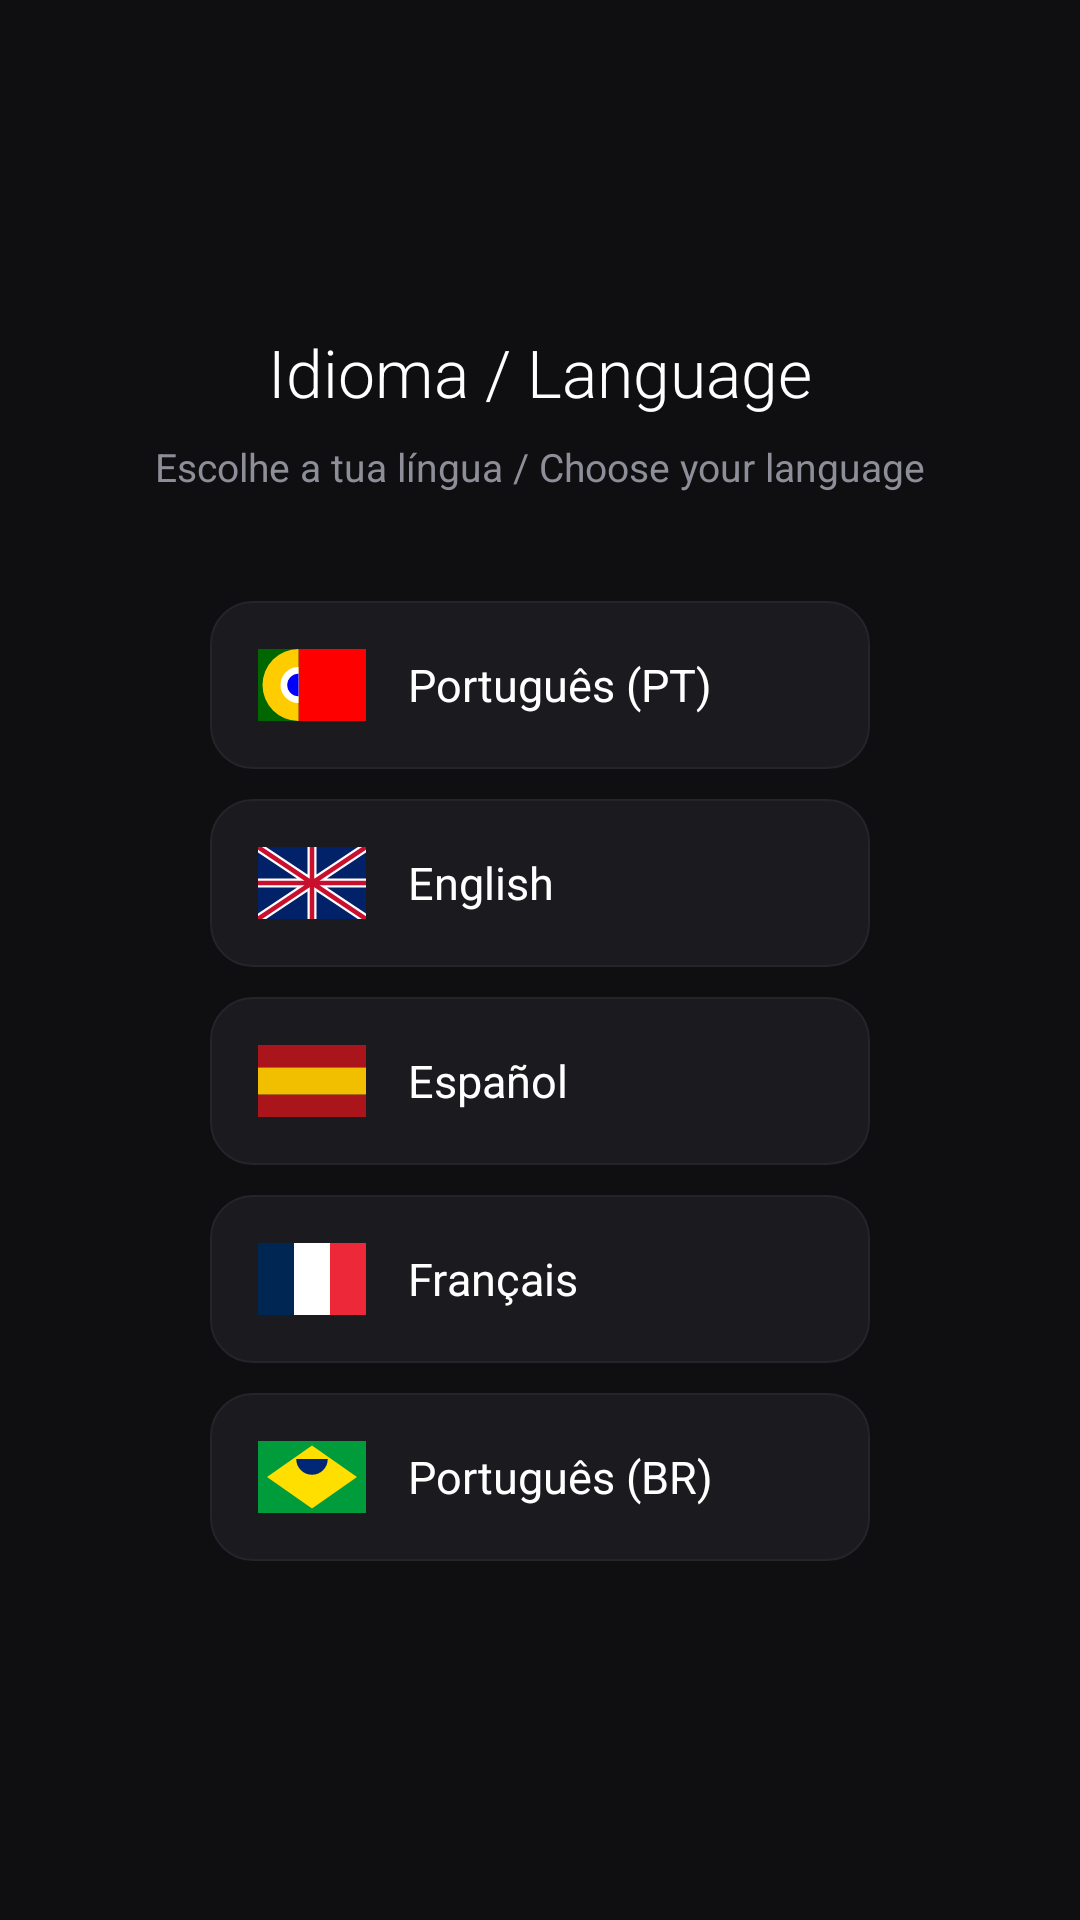

Icon bounding boxes for this 1080w x 1920h phone screenshot, format Rect(x1, y1, x2, y2):
flag br: Rect(258, 1441, 366, 1513)
flag es: Rect(258, 1045, 366, 1117)
flag fr: Rect(258, 1243, 366, 1315)
flag gb: Rect(258, 847, 366, 919)
flag pt: Rect(258, 649, 366, 721)
